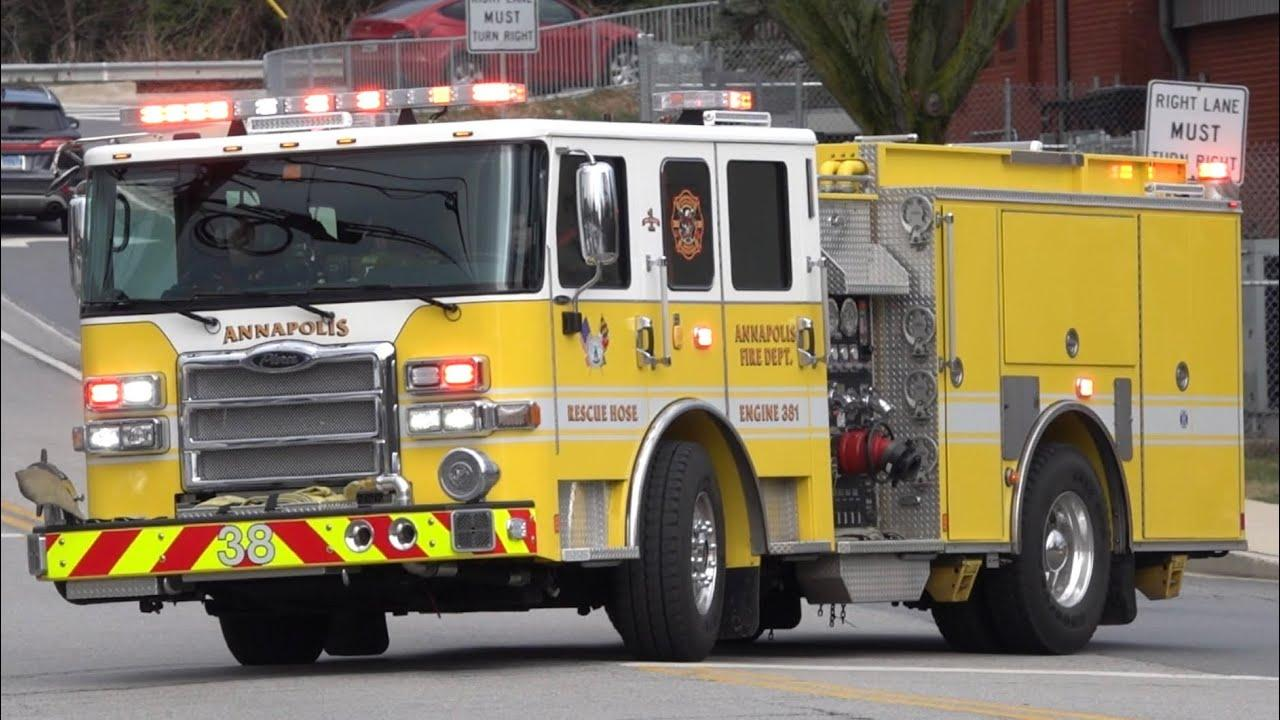firetruck_on: (26, 86, 1244, 664)
